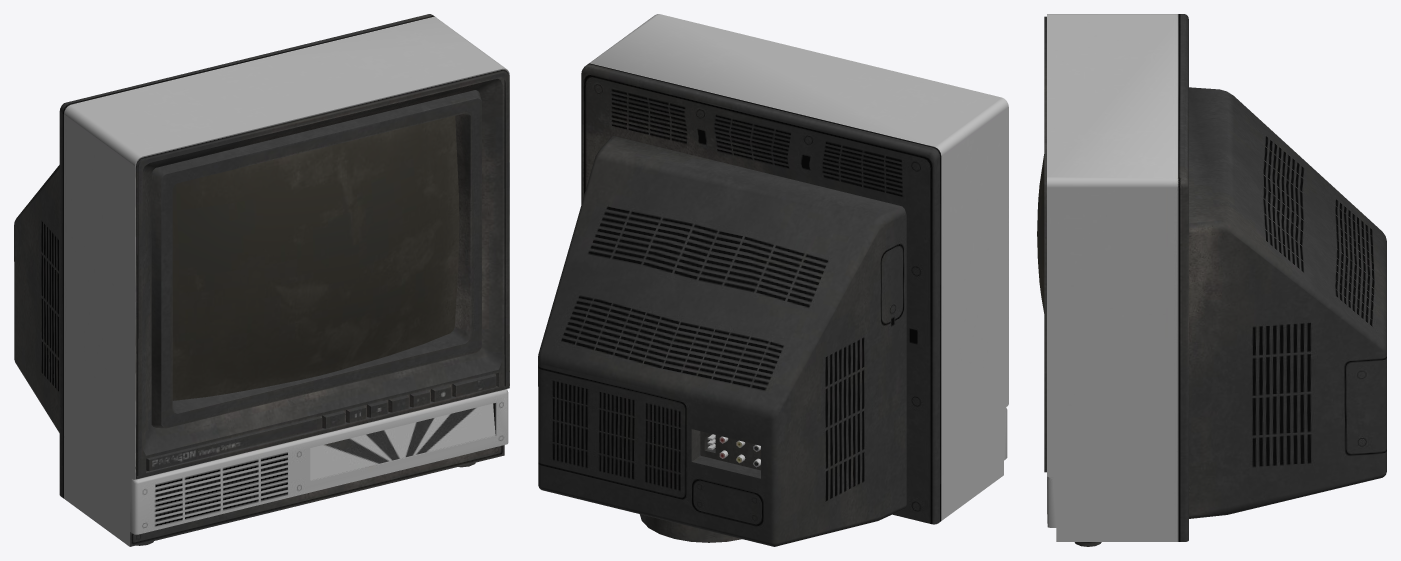
File: television_02.glb
3 renders of one model, left to right at view 1: azimuth 30°, elevation 25°; view 2: azimuth 150°, elevation 25°; view 3: azimuth 270°, elevation 25°, orthographic. The views are drawn at different scales.
Parts seen in each view (by area): view 1: television_02; view 2: television_02; view 3: television_02.
Boxes of the visible parts, x1,y1,x2,y2 form: television_02: (14,14,509,546); television_02: (538,14,1008,546); television_02: (1037,14,1386,546).
Size of the model in its own units: 0.3997 by 0.4114 by 0.3502.
Materials: 1 (1 with a texture image).
